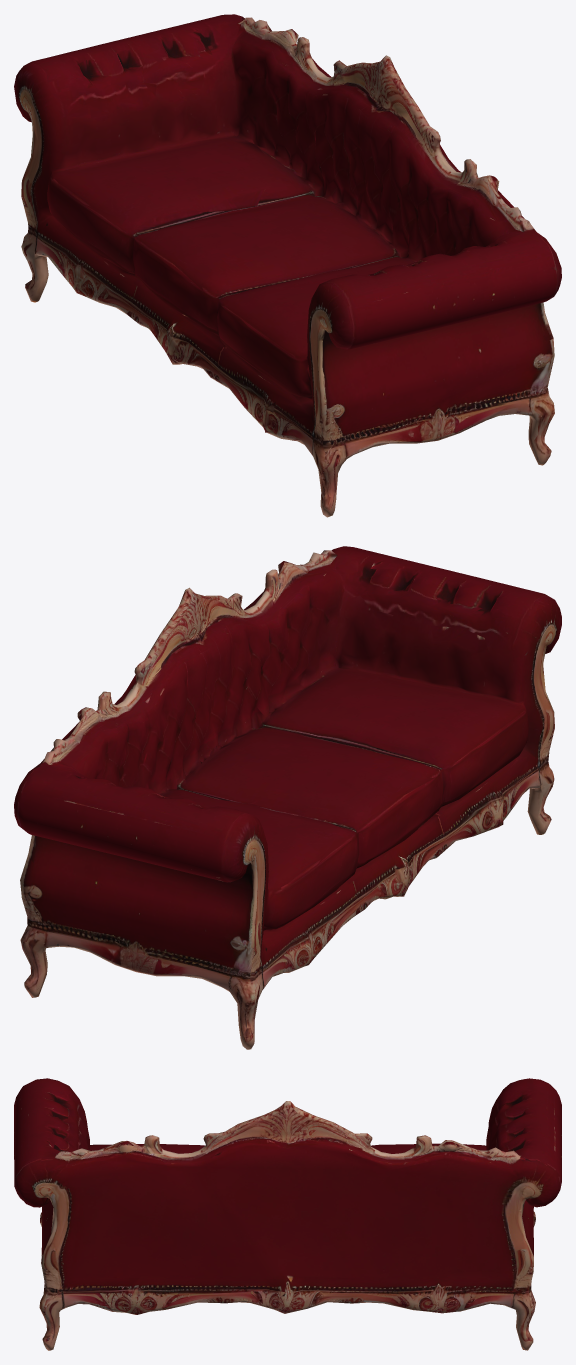
Rendered from L2_LR_Sofa.fbx.
3 views of the same model, one above another, from view 1: azimuth 30°, elevation 25°; view 2: azimuth 150°, elevation 25°; view 3: azimuth 270°, elevation 25° (orthographic). The views are drawn at different scales.
Visible parts, largest first — view 1: L2_LR_Sofa; view 2: L2_LR_Sofa; view 3: L2_LR_Sofa.
Part boxes in pixels (<box>): L2_LR_Sofa: <box>14,14,561,517</box>; L2_LR_Sofa: <box>14,546,561,1049</box>; L2_LR_Sofa: <box>14,1078,561,1350</box>.
Bounding box in the file's own units: 0.8245 × 0.9939 × 2.
1 material, 1 textured.
